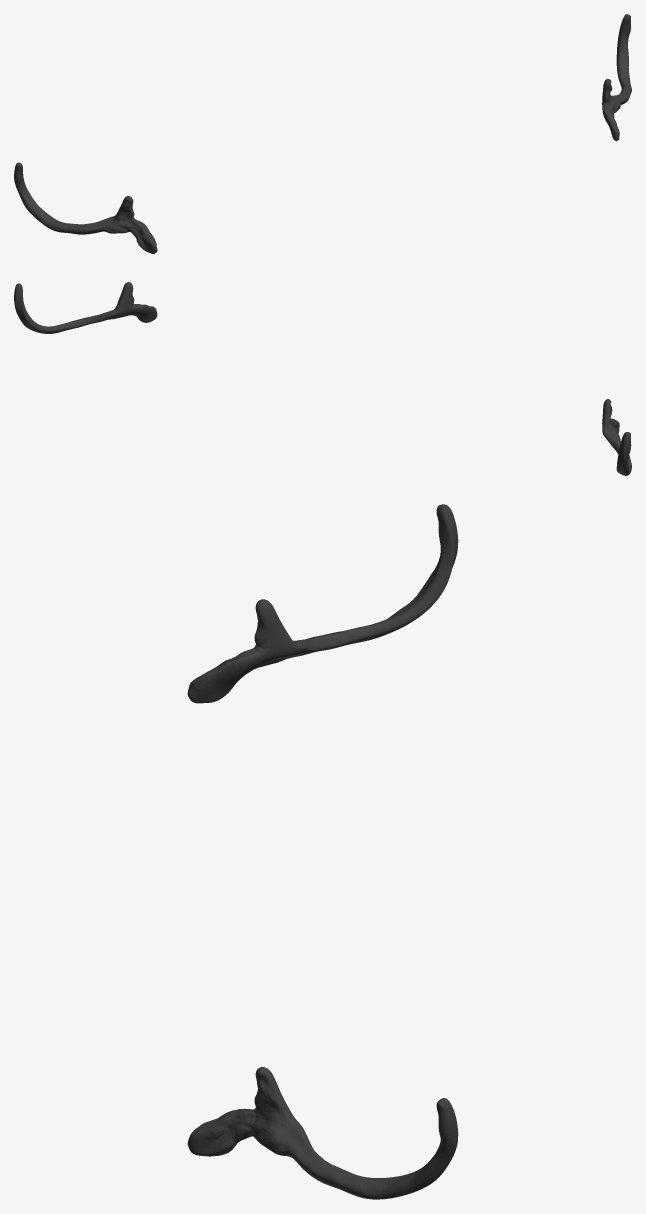
The model's file is details_eye.glb.
3 renders of one model, top to bottom at view 1: azimuth 30°, elevation 25°; view 2: azimuth 150°, elevation 25°; view 3: azimuth 270°, elevation 25°, orthographic. The views are drawn at different scales.
Visible parts, largest first — view 1: details_eye; view 2: details_eye; view 3: details_eye.
Boxes of the visible parts, <box> form: details_eye: <box>14,14,631,253</box>; details_eye: <box>14,282,631,475</box>; details_eye: <box>187,504,458,1199</box>.
Size of the model in its own units: 0.2506 by 0.0247 by 0.0476.
1 material, 1 textured.
